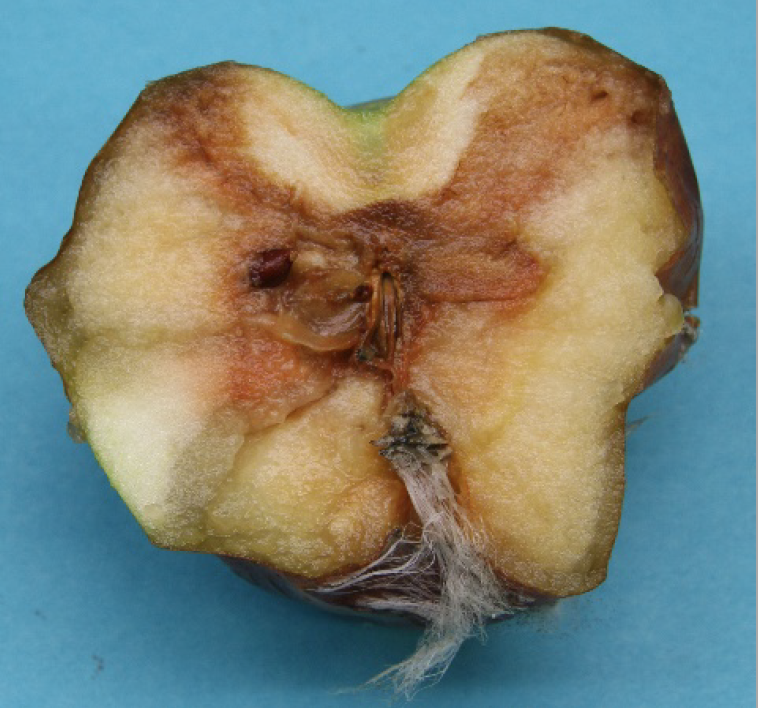Mucor: (370, 412, 480, 692)
